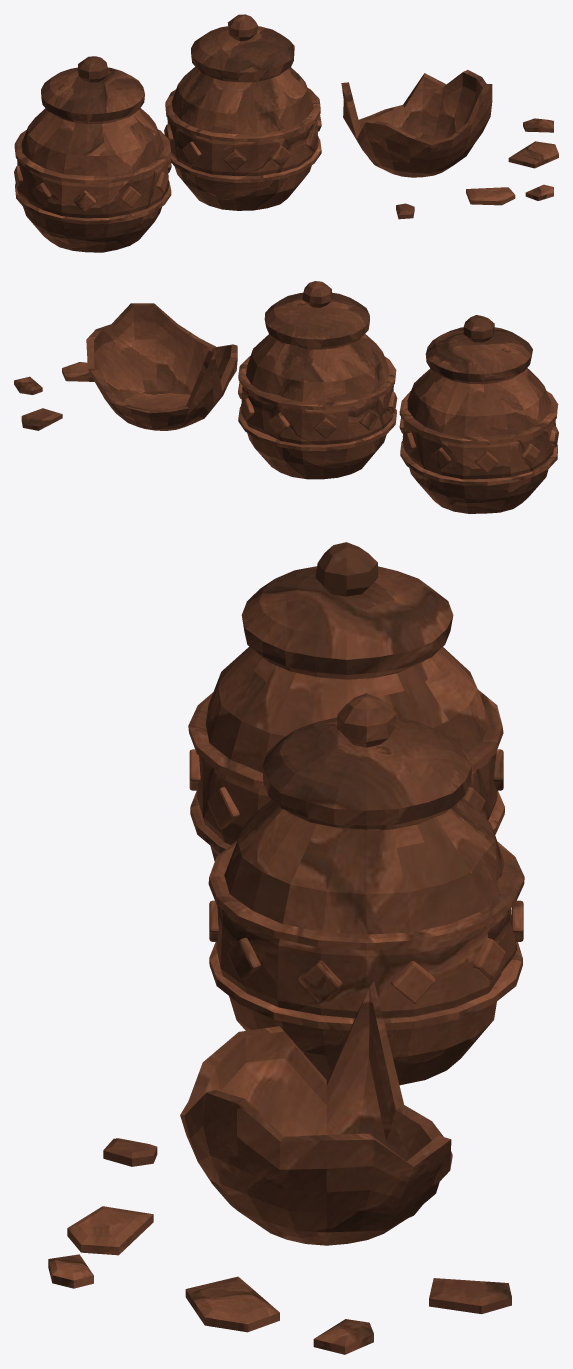
The model's file is junk_urns.glb.
3 renders of one model, top to bottom at view 1: azimuth 30°, elevation 25°; view 2: azimuth 150°, elevation 25°; view 3: azimuth 270°, elevation 25°, orthographic. The views are drawn at different scales.
Visible parts, largest first — view 1: model; view 2: model; view 3: model.
Boxes of the visible parts, box(x1,y1,x2,y2) form: model: box(14, 14, 558, 252); model: box(14, 281, 558, 513); model: box(48, 542, 524, 1354).
Bounding box in the file's own units: 1.23 × 0.399 × 0.4792.
3 materials, 3 textured.
